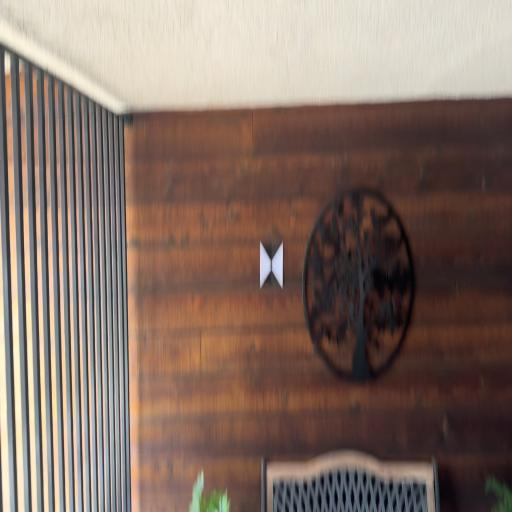target: (260, 244, 284, 288)
